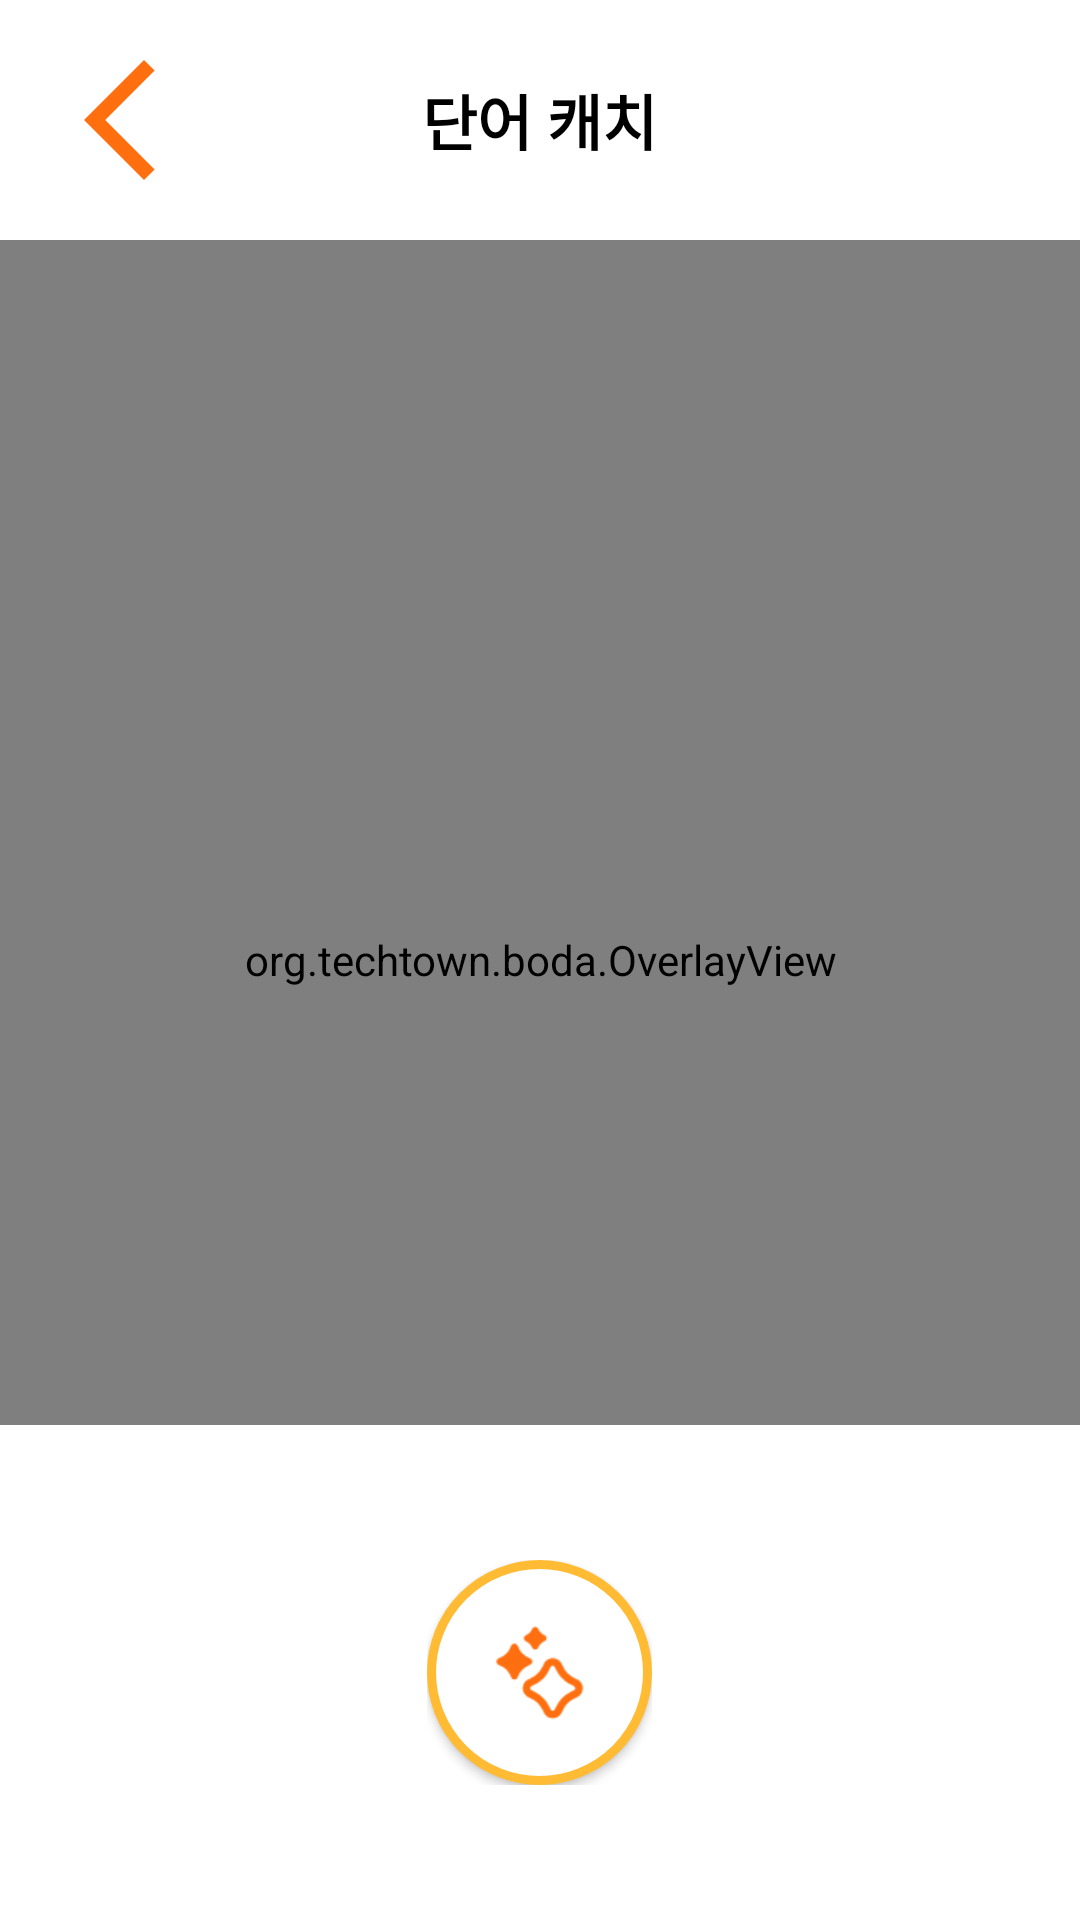

Point at icon controls on the screen. Image size 1080×1920, points as (x=x, y=y).
back: (x=119, y=120)
